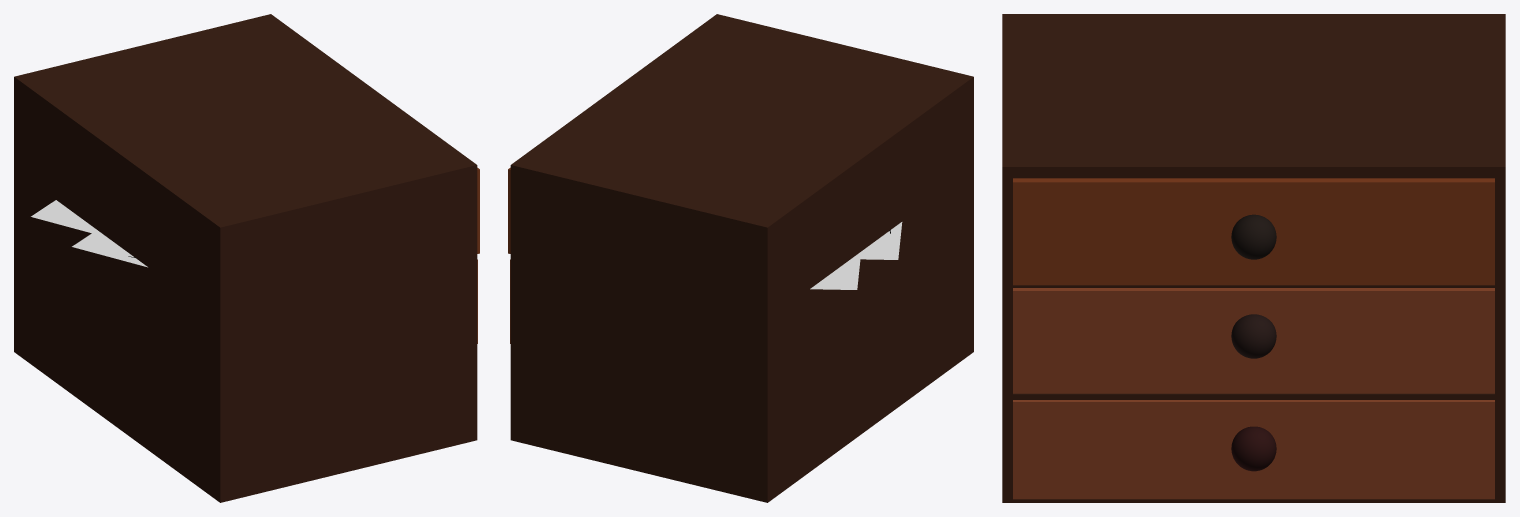
File: Meuble.fbx
3 views of the same model, side by side, from view 1: azimuth 30°, elevation 25°; view 2: azimuth 150°, elevation 25°; view 3: azimuth 270°, elevation 25° (orthographic). The views are drawn at different scales.
Visible parts, largest first — view 1: Cube.001, Plan.004, Plan.003; view 2: Cube.001, Plan.003, Plan.004; view 3: Cube.001, Cube.002, Cube.003, Cube.004, Sphère.001, Sphère.002, Sphère.
Part boxes in pixels (box(x1,y1,x2,y2)): Cube.001: box(14, 14, 477, 502); Plan.004: box(31, 200, 106, 237); Plan.003: box(72, 233, 147, 267); Cube.001: box(510, 14, 973, 502); Plan.003: box(851, 222, 902, 259); Plan.004: box(810, 259, 860, 289); Cube.001: box(1002, 14, 1505, 502); Cube.002: box(1013, 178, 1494, 285); Cube.003: box(1013, 288, 1494, 393); Cube.004: box(1013, 400, 1494, 499); Sphère.001: box(1231, 214, 1276, 259); Sphère.002: box(1231, 426, 1276, 471); Sphère: box(1231, 314, 1276, 358).
Size of the model in its own units: 250 by 205 by 278.
